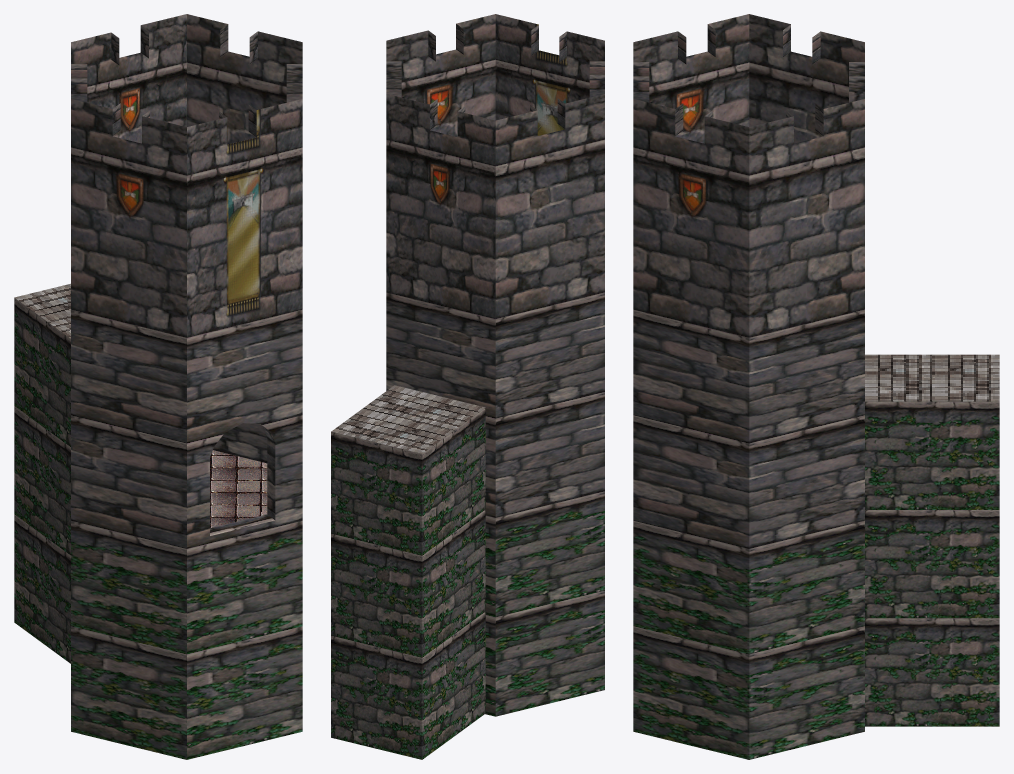
File: QOutpost.fbx
The picture shows the model from 3 angles, left to right: view 1: azimuth 30°, elevation 25°; view 2: azimuth 150°, elevation 25°; view 3: azimuth 270°, elevation 25°; orthographic projection. The views are drawn at different scales.
Parts seen in each view (by area): view 1: QOUTPOST; view 2: QOUTPOST; view 3: QOUTPOST.
Boxes of the visible parts, x1,y1,x2,y2 form: QOUTPOST: (14, 14, 302, 759); QOUTPOST: (331, 14, 604, 759); QOUTPOST: (633, 14, 999, 759).
Size of the model in its own units: 43.14 by 112 by 59.05.
